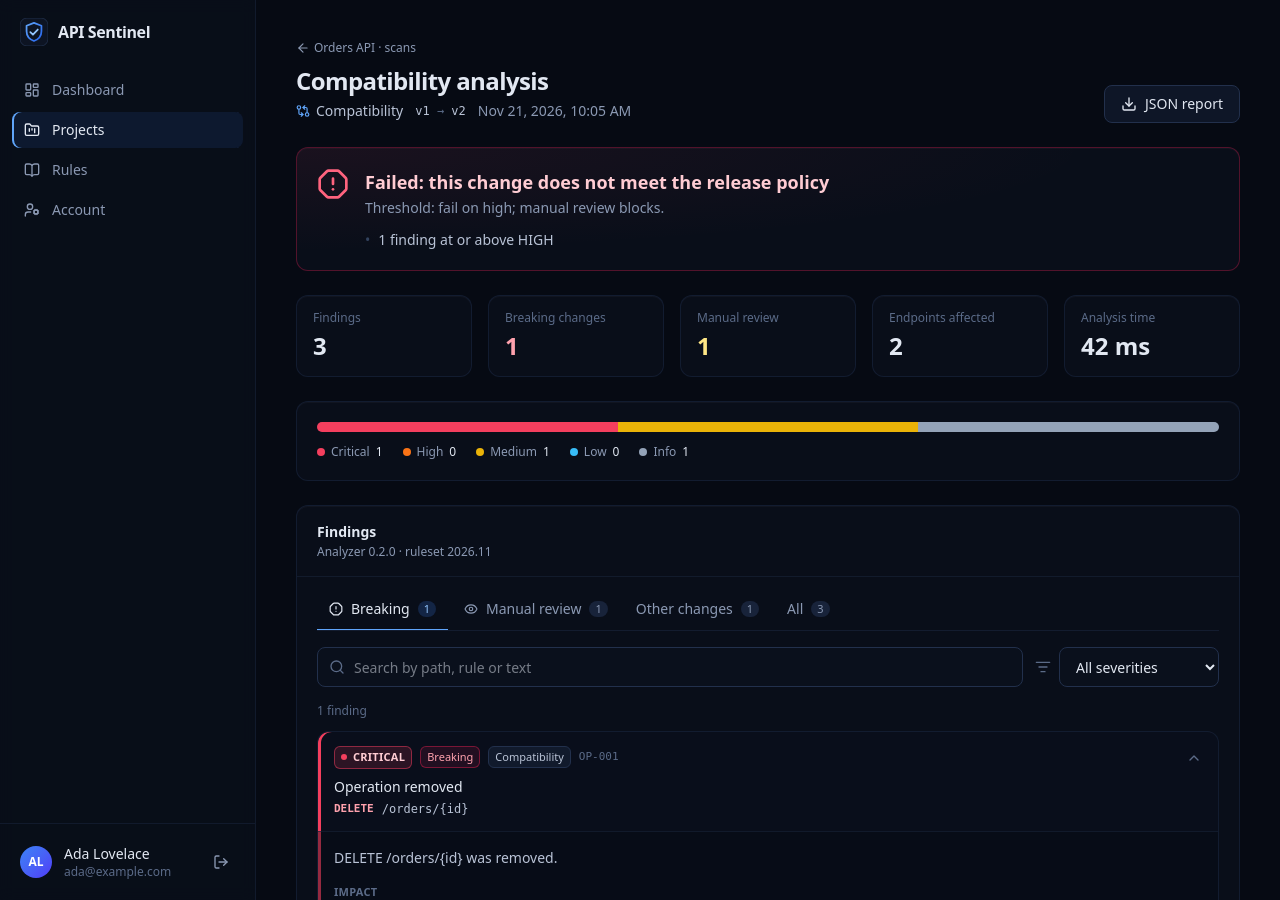
it: ScanDetailPage › separates manual-review findings from breaking changes
Step 1. Click the tab "Manual review 1" → (536, 610), box [452, 589, 620, 631]
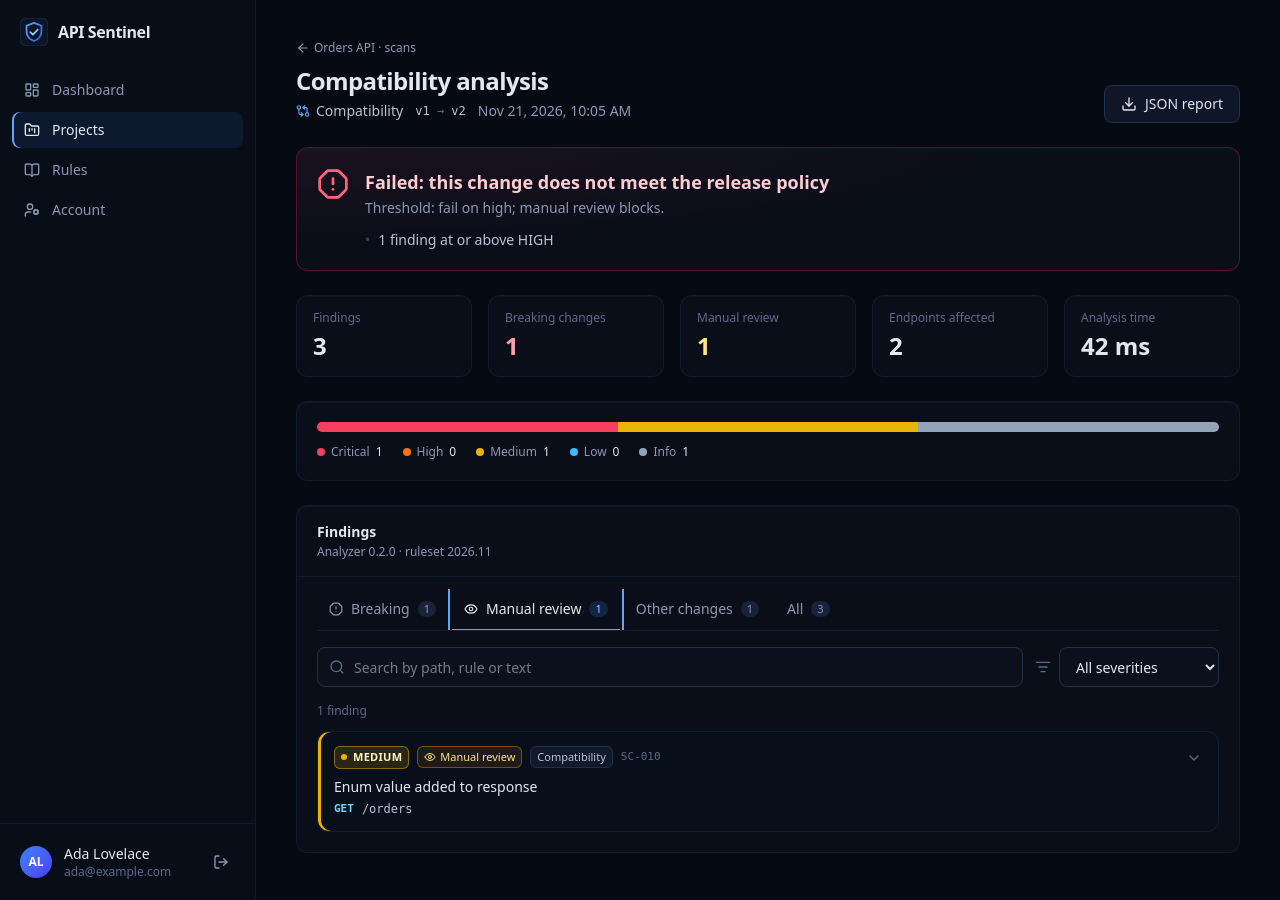
Check: the heading "Enum value added to response" is shown, box [334, 776, 537, 796]
Check: the button "Operation removed" is gone
